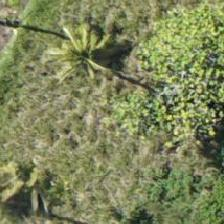coconut_tree: (34, 0, 124, 87), (0, 135, 71, 223)
